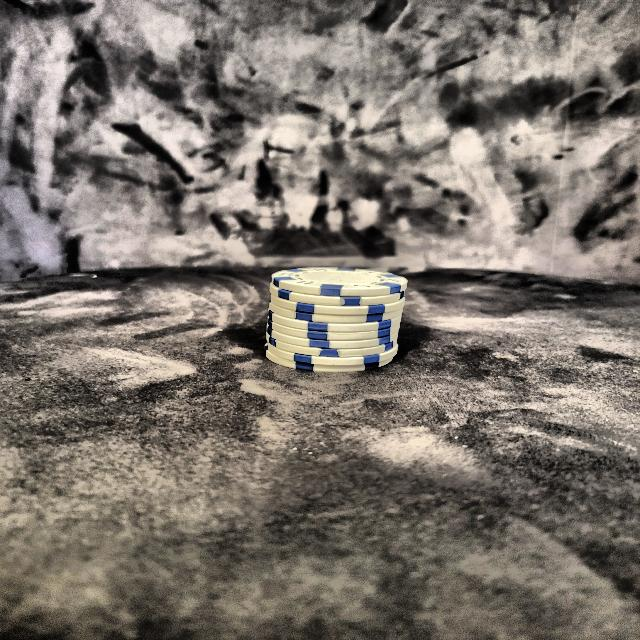Chip: (262, 259, 405, 376)
